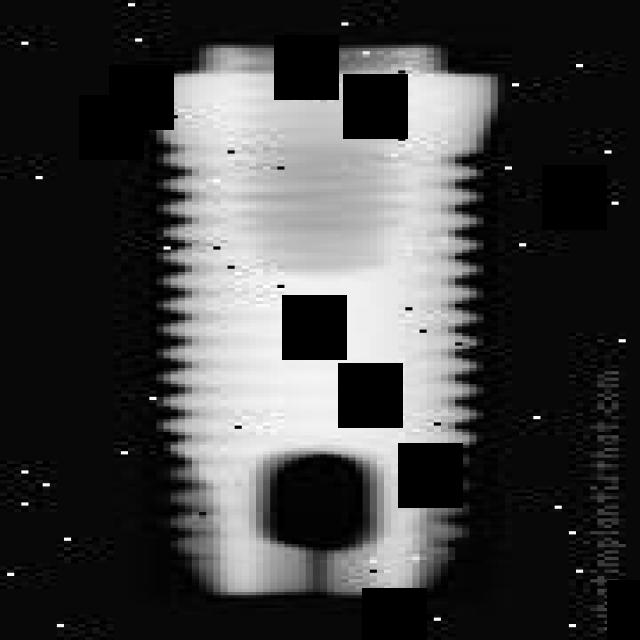Leone Implant: (134, 40, 498, 603)
